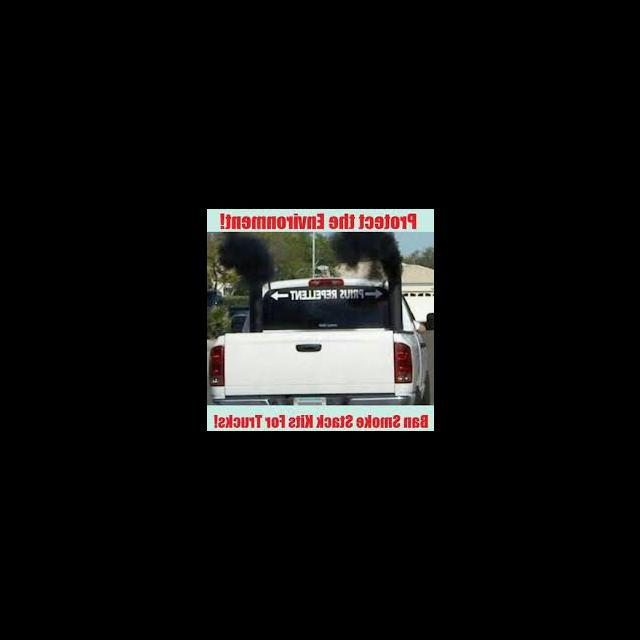Smoke: (329, 230, 401, 276), (216, 232, 276, 277)
